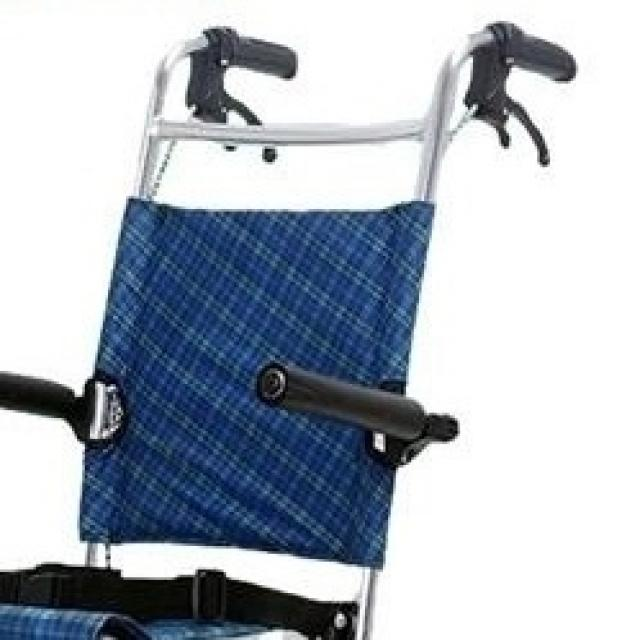wheelchair: (0, 21, 578, 640)
